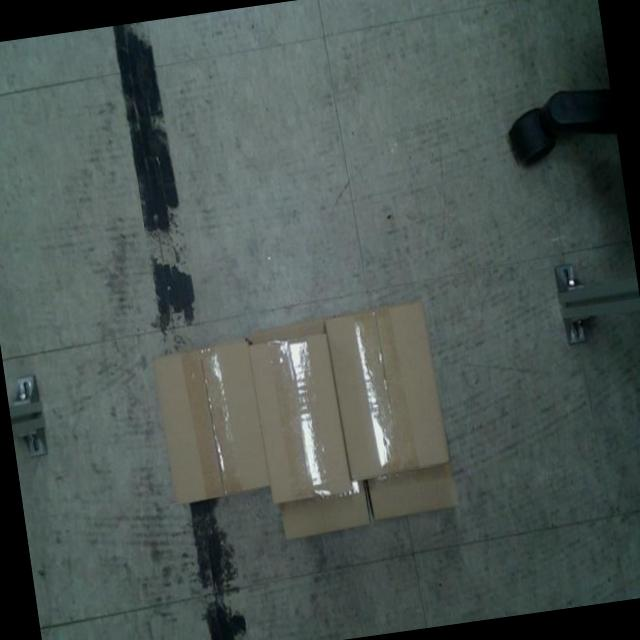box: (326, 303, 449, 481), (150, 337, 270, 508), (246, 333, 354, 506)
